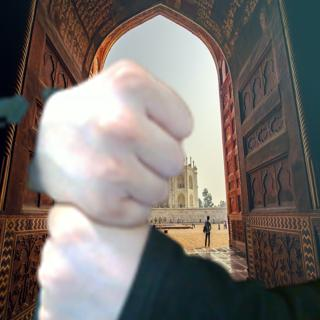CAREFUL: (26, 46, 203, 320)
